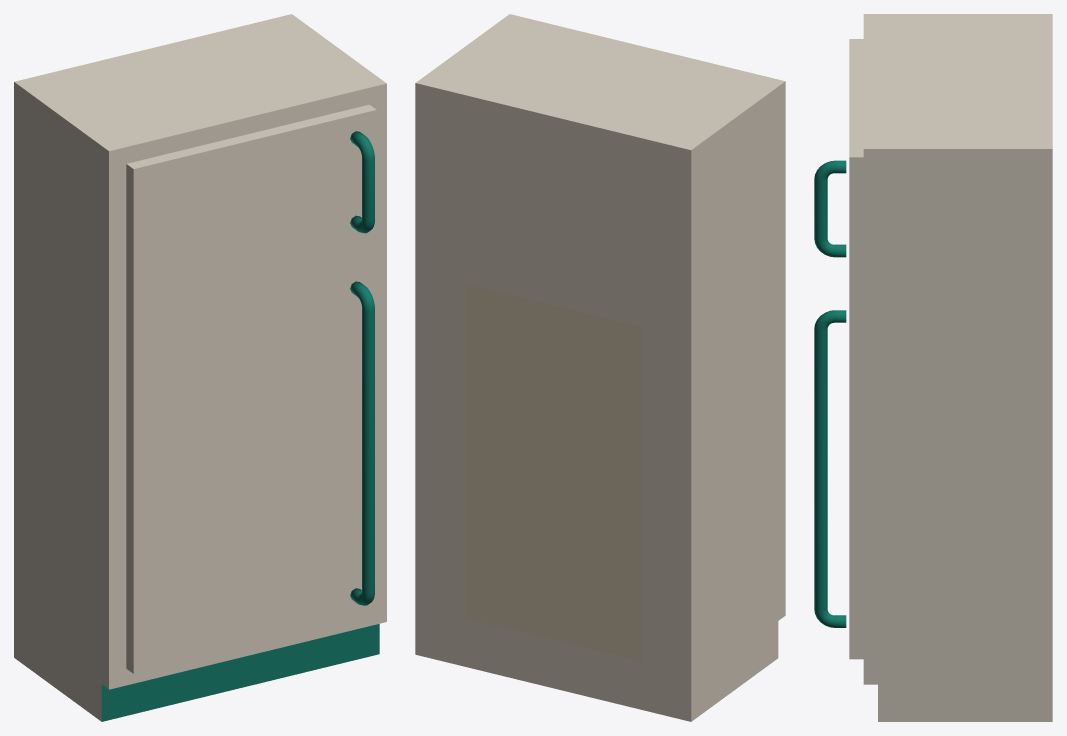
The model's file is fridge.glb.
The picture shows the model from 3 angles, left to right: view 1: azimuth 30°, elevation 25°; view 2: azimuth 150°, elevation 25°; view 3: azimuth 270°, elevation 25°; orthographic projection.
Visible parts, largest first — view 1: fridge; view 2: fridge; view 3: fridge.
Boxes of the visible parts, <box> form: fridge: <box>14,14,386,721</box>; fridge: <box>415,14,785,721</box>; fridge: <box>814,14,1052,721</box>.
Bounding box in the file's own units: 0.9086 × 1.8 × 0.6787.
